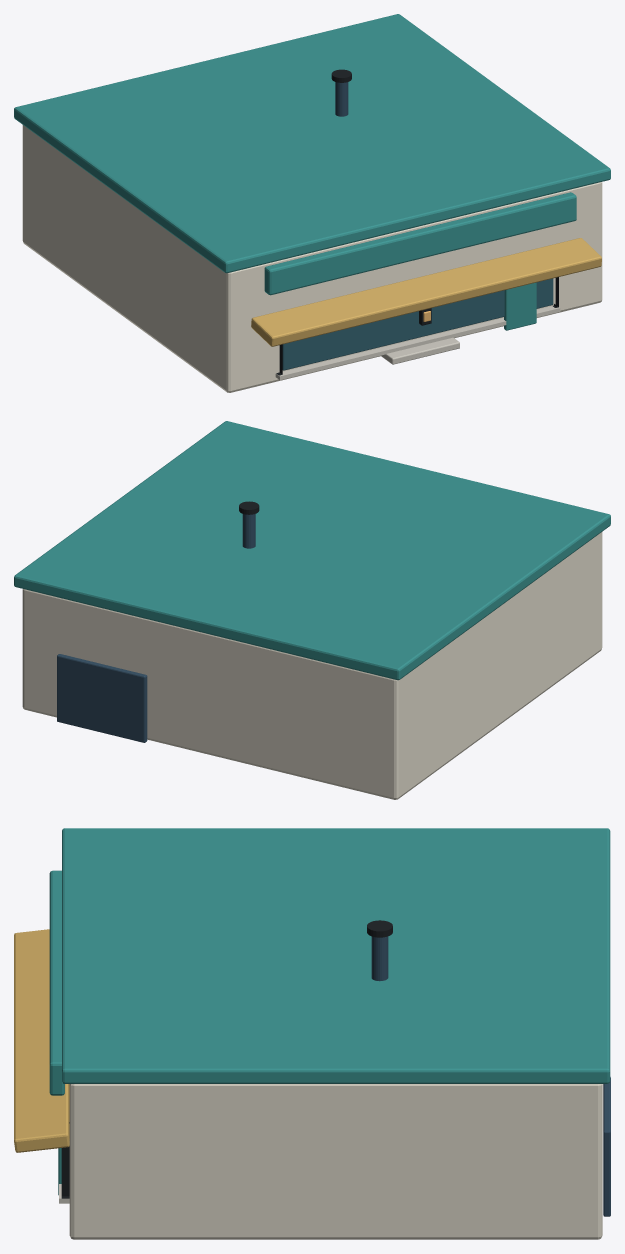
Rendered from COM_MID_2x2_005.glb.
3 views of the same model, one above another, from view 1: azimuth 30°, elevation 25°; view 2: azimuth 150°, elevation 25°; view 3: azimuth 270°, elevation 25° (orthographic). The views are drawn at different scales.
Parts seen in each view (by area): view 1: COM_MID_2x2_005_Visual; view 2: COM_MID_2x2_005_Visual; view 3: COM_MID_2x2_005_Visual.
Boxes of the visible parts, <box> form: COM_MID_2x2_005_Visual: <box>14,14,610,392</box>; COM_MID_2x2_005_Visual: <box>14,421,610,799</box>; COM_MID_2x2_005_Visual: <box>14,828,610,1239</box>.
Size of what is drawn, in the model's own units: 3.75 by 1.63 by 3.9.
